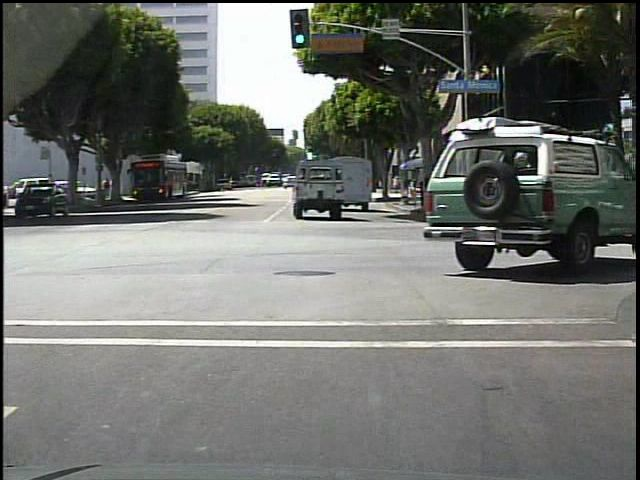person: (547, 158, 570, 227), (587, 164, 606, 224), (523, 156, 540, 214), (573, 168, 591, 222), (480, 165, 498, 219), (509, 162, 527, 215), (516, 166, 531, 218), (473, 165, 485, 216), (111, 175, 121, 202), (102, 176, 111, 199)
